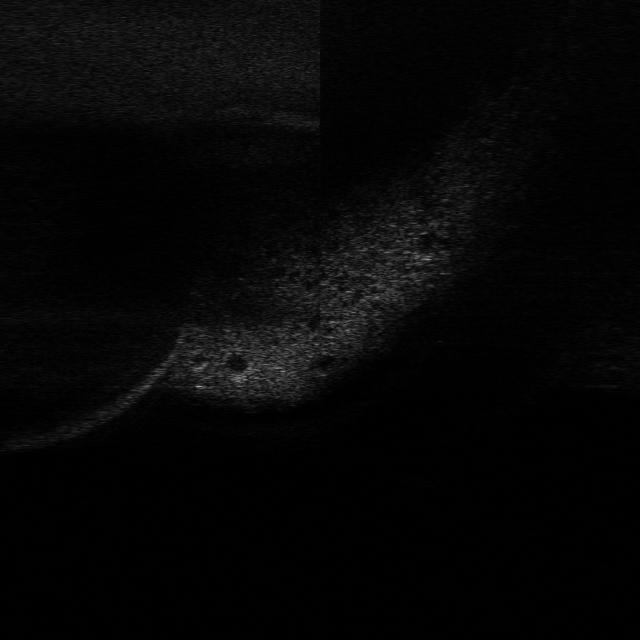cube: (399, 461, 462, 489)
